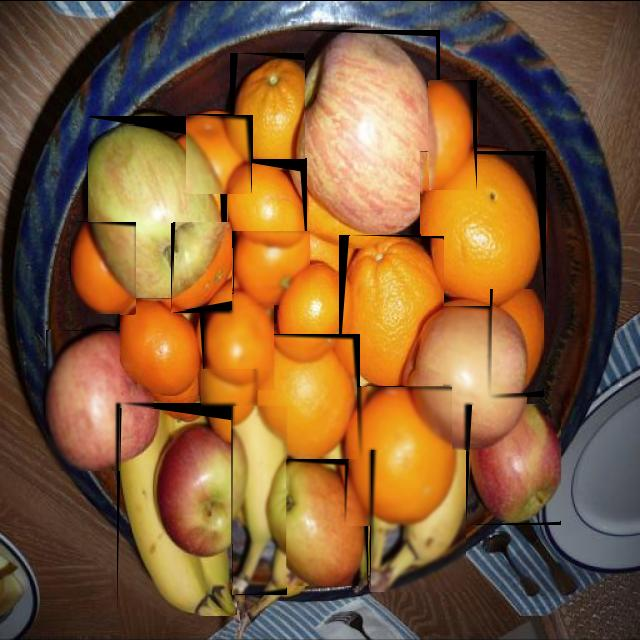Apple: (295, 31, 438, 233), (89, 124, 224, 300), (405, 304, 526, 451), (47, 330, 153, 470), (266, 459, 366, 584), (152, 414, 245, 543), (470, 404, 560, 522)
Banana: (120, 407, 231, 614), (371, 449, 466, 590), (234, 405, 286, 592)
Orange: (421, 152, 541, 304), (342, 235, 443, 385), (349, 386, 452, 524), (255, 334, 357, 457), (121, 297, 204, 394), (233, 56, 305, 159), (204, 293, 274, 388), (229, 161, 305, 247), (71, 221, 136, 313), (235, 230, 310, 303), (493, 288, 543, 392), (173, 221, 232, 309), (187, 115, 251, 192), (429, 79, 473, 188), (201, 368, 256, 427)
